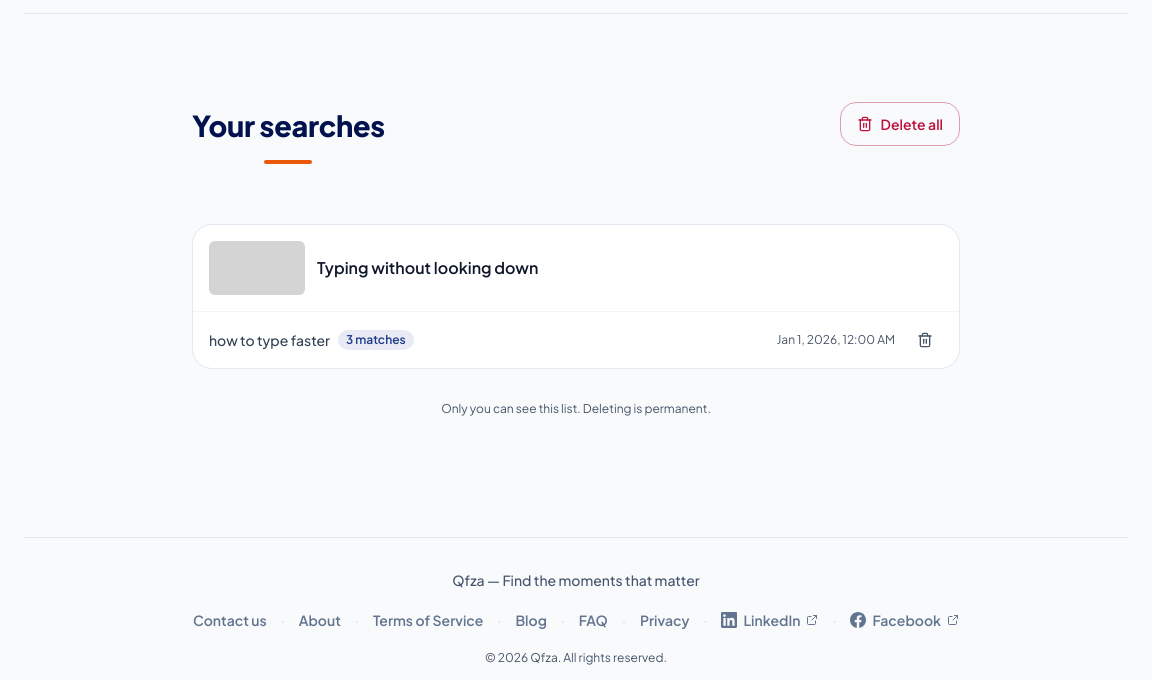
Test case: a saved search replays every match it found › lists every match the search returned, not only the moment it opens on
(page scrolled)
Click the link "how to type faster" at coordinates (270, 340), box [209,330,330,350]
(page scrolled)
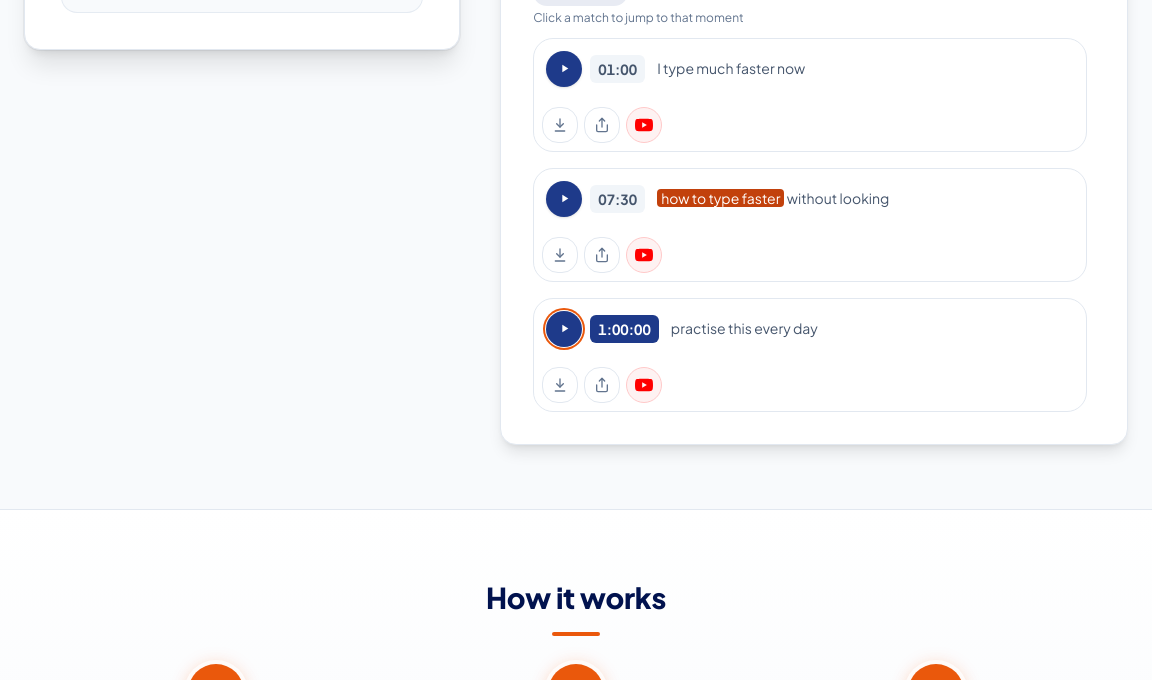
Result: the button with aria-label "Play at 01:00" is shown at [534,38,1086,98]
Result: the button with aria-label "Play at 07:30" is shown at [534,168,1086,228]
Result: the button with aria-label "Play at 1:00:00" is shown at [534,298,1086,358]
